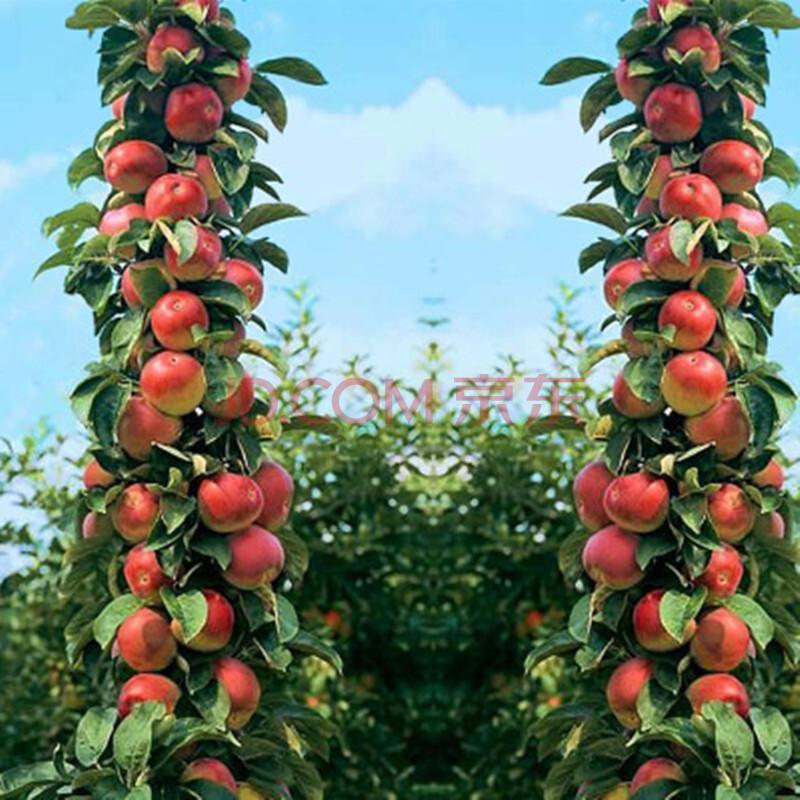apple: (137, 349, 204, 416), (659, 349, 727, 414), (582, 523, 648, 589), (112, 606, 177, 673), (687, 607, 750, 672), (634, 591, 698, 652), (604, 472, 668, 533), (146, 289, 208, 351), (700, 138, 766, 195), (655, 289, 716, 350), (220, 530, 284, 587), (199, 472, 263, 529), (611, 351, 665, 418), (179, 591, 237, 652), (165, 83, 224, 142), (211, 656, 258, 729), (605, 658, 652, 727), (658, 173, 722, 222), (142, 173, 206, 222), (105, 141, 167, 191), (685, 672, 749, 720), (113, 673, 179, 716), (112, 482, 159, 542), (121, 544, 168, 599), (698, 544, 743, 598)
